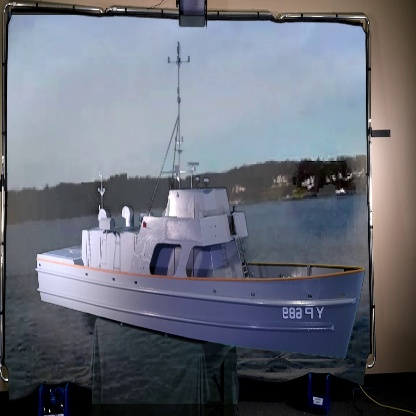YP689: (34, 43, 365, 364)
